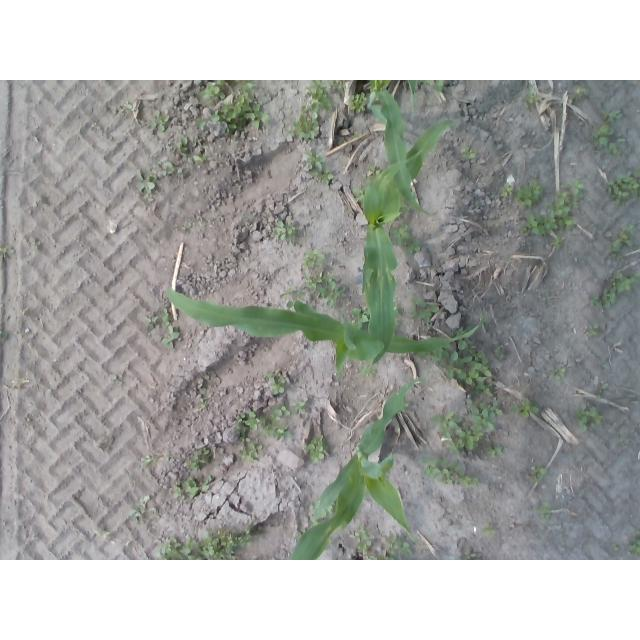Maize: (167, 285, 485, 376), (354, 121, 451, 376), (288, 378, 421, 560), (368, 81, 435, 216)
Weeds: (157, 520, 267, 560), (522, 202, 573, 235), (609, 171, 640, 204), (428, 411, 460, 439), (290, 113, 320, 139), (220, 96, 251, 121), (457, 422, 484, 450), (184, 475, 213, 499), (516, 180, 542, 205), (128, 495, 156, 517), (307, 436, 328, 465), (245, 104, 269, 129), (319, 283, 345, 306), (261, 420, 289, 441), (577, 404, 601, 428), (457, 325, 478, 351), (186, 448, 210, 470), (515, 398, 541, 418), (387, 535, 412, 555), (414, 306, 440, 325), (199, 84, 225, 101), (474, 409, 494, 431), (309, 91, 331, 111), (306, 149, 326, 171), (391, 225, 410, 248), (136, 168, 154, 192), (149, 111, 169, 132), (423, 457, 441, 480), (479, 399, 501, 417), (274, 221, 295, 239), (350, 91, 367, 113), (267, 374, 285, 394), (163, 325, 179, 347), (561, 181, 584, 196), (358, 525, 371, 551), (596, 127, 613, 146), (453, 368, 472, 384), (452, 353, 472, 368), (617, 276, 635, 292), (237, 80, 255, 96), (317, 167, 333, 185), (247, 445, 263, 463), (244, 411, 260, 429), (269, 405, 289, 419), (467, 392, 480, 413), (548, 366, 566, 381), (303, 274, 321, 289), (483, 356, 494, 380), (302, 105, 319, 120), (443, 458, 461, 472), (604, 288, 616, 309), (309, 81, 327, 95), (279, 289, 306, 298), (352, 309, 368, 324), (196, 115, 220, 125), (407, 238, 421, 255), (613, 239, 630, 253), (461, 474, 479, 487), (569, 88, 588, 100), (290, 399, 305, 414), (144, 316, 158, 332), (535, 504, 551, 518), (24, 238, 41, 251), (304, 249, 326, 259), (469, 361, 484, 375), (474, 375, 487, 390), (493, 343, 505, 359), (163, 308, 174, 325), (532, 467, 544, 482), (162, 162, 174, 177), (629, 537, 640, 553), (301, 262, 323, 270), (177, 136, 187, 153), (413, 298, 427, 310), (609, 111, 624, 122), (523, 93, 539, 103), (586, 323, 599, 335), (354, 188, 366, 201), (591, 294, 602, 308), (607, 144, 621, 155), (1, 247, 15, 258), (488, 448, 504, 457), (369, 165, 381, 177), (501, 184, 512, 197), (557, 193, 571, 203), (228, 122, 243, 131), (483, 389, 495, 400), (621, 226, 635, 235), (141, 457, 152, 468), (552, 239, 563, 250), (463, 147, 475, 157), (94, 526, 107, 535), (194, 154, 207, 163), (633, 270, 640, 286), (173, 486, 182, 498), (437, 81, 446, 92), (179, 165, 190, 174), (234, 426, 247, 433), (331, 80, 341, 89), (474, 351, 484, 360), (182, 222, 192, 231), (242, 451, 254, 458), (145, 193, 154, 202), (322, 274, 331, 283), (443, 468, 453, 476), (443, 476, 453, 484), (238, 413, 246, 423), (457, 428, 466, 436), (467, 553, 477, 560), (598, 383, 603, 397), (201, 397, 208, 407), (101, 435, 110, 442), (485, 529, 494, 536), (615, 272, 622, 281), (612, 545, 620, 552), (239, 438, 249, 443), (165, 452, 171, 460), (615, 253, 623, 259), (602, 110, 607, 119), (118, 374, 122, 385), (111, 374, 117, 381), (493, 223, 499, 230), (198, 212, 203, 220), (239, 446, 246, 451), (219, 214, 226, 219), (355, 131, 360, 138), (124, 102, 129, 107), (617, 139, 625, 142), (622, 235, 627, 239), (128, 105, 132, 110), (0, 330, 4, 334), (636, 532, 638, 537), (613, 254, 616, 257)
